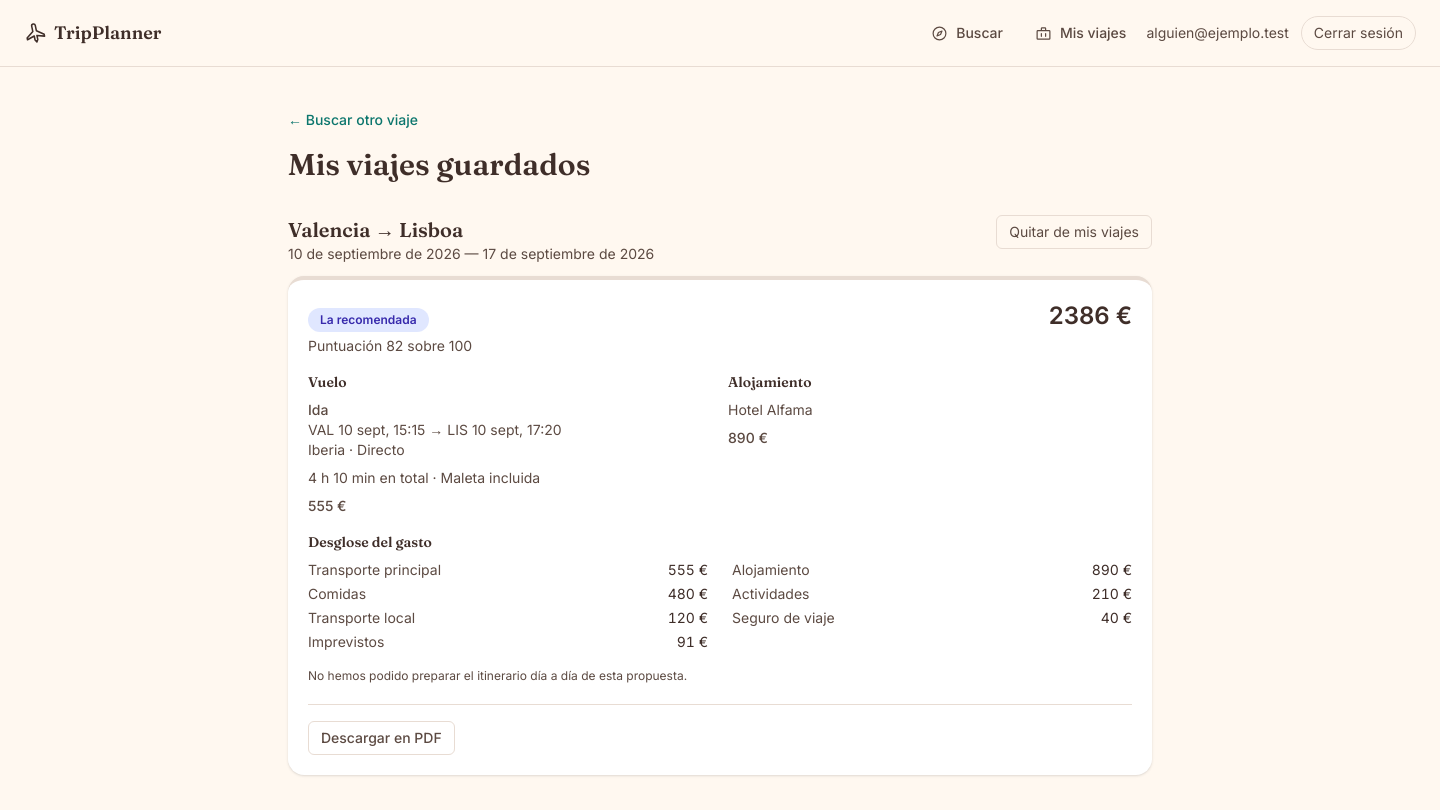
Test: Mis viajes guardados › borrar un viaje › lo quita de la lista
Expected: the heading "Valencia → Lisboa" is shown, [288, 217, 463, 242]
Click the button "Quitar de mis viajes" at (1074, 232), box [996, 215, 1152, 249]
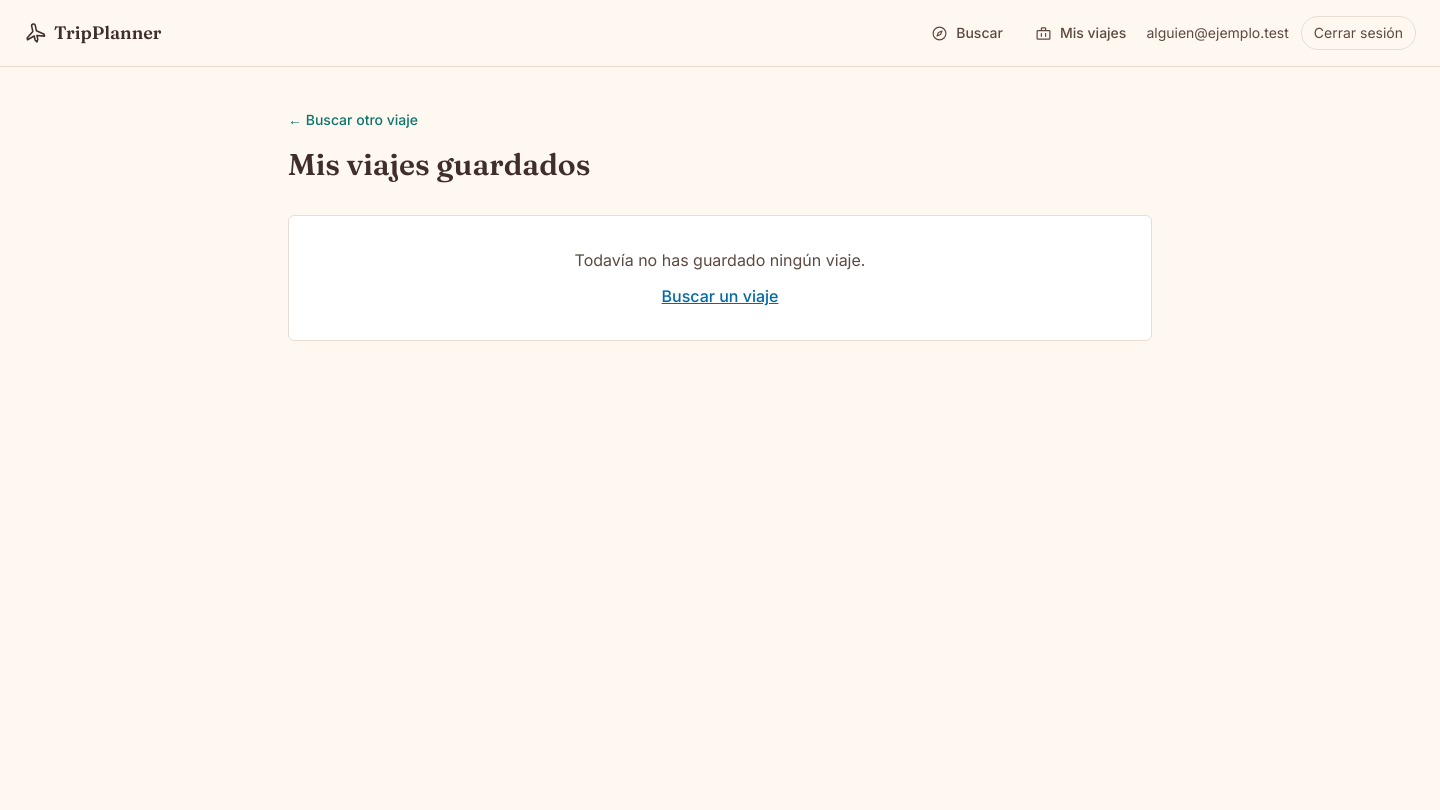
Expected: the text "Todavía no has guardado ningún viaje." is shown, [575, 250, 866, 270]
